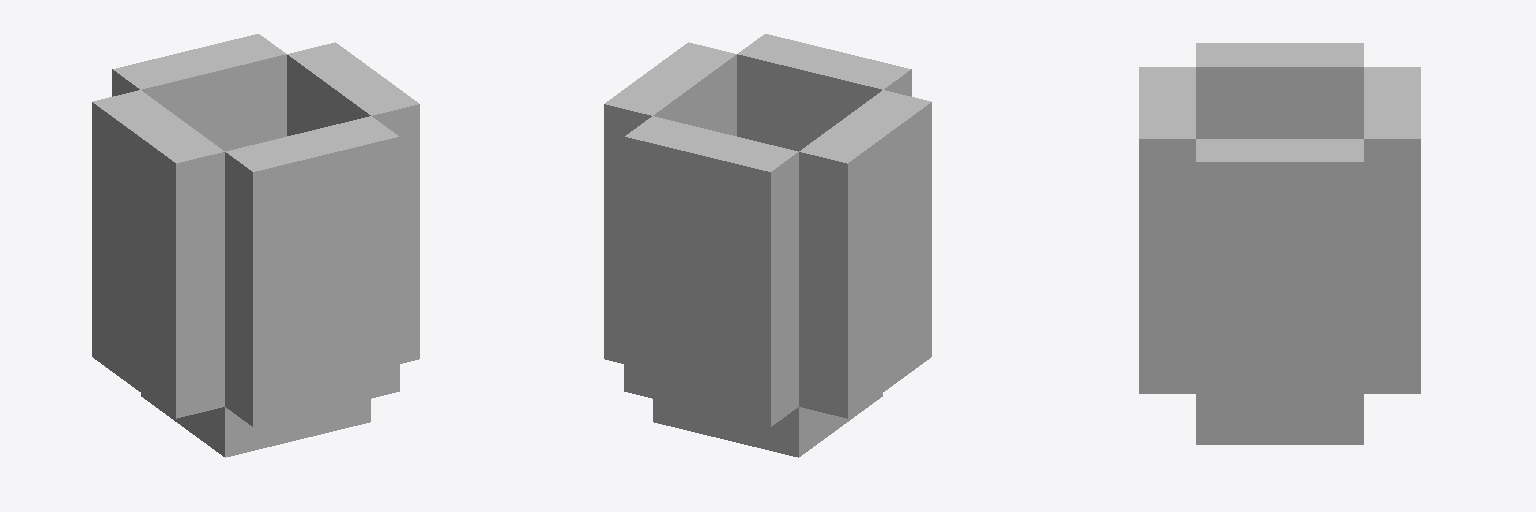
The model's file is glass.obj.
The picture shows the model from 3 angles: view 1: azimuth 30°, elevation 25°; view 2: azimuth 150°, elevation 25°; view 3: azimuth 270°, elevation 25°; orthographic projection.
Visible parts, largest first — view 1: glass; view 2: glass; view 3: glass.
Boxes of the visible parts, <box> form: glass: <box>92,34,419,457</box>; glass: <box>604,34,931,457</box>; glass: <box>1139,43,1420,444</box>.
Size of the model in its own units: 5 by 6 by 5.